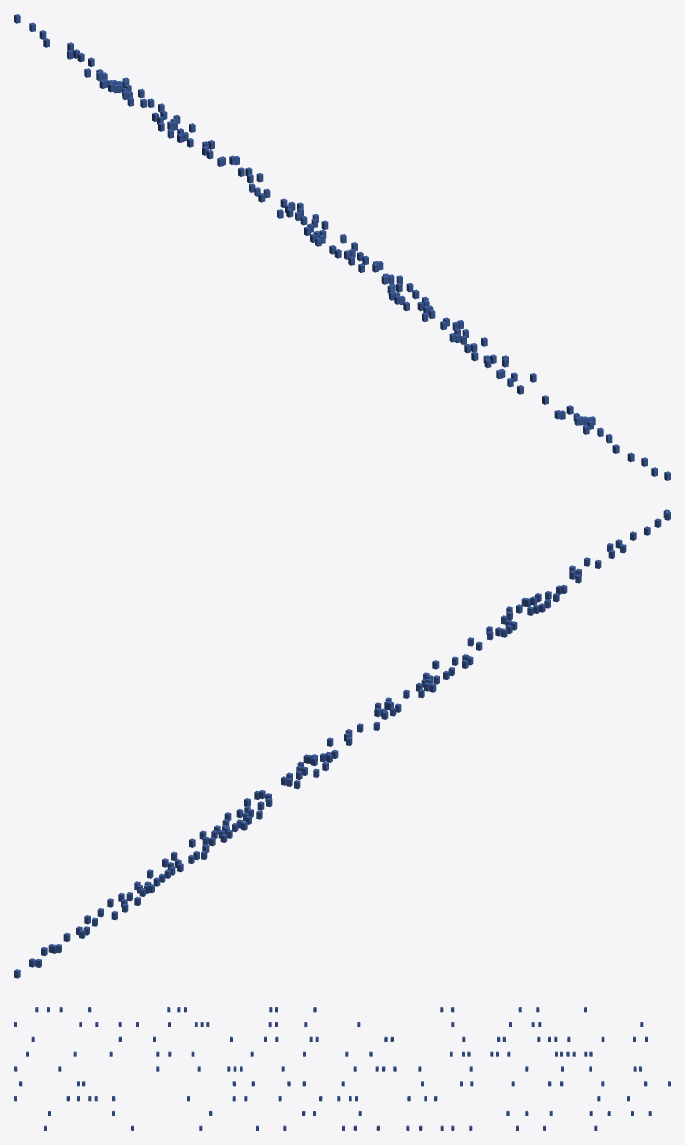
Rendered from CrowdE_CrowdBlue.fbx.
3 views of the same model, one above another, from view 1: azimuth 30°, elevation 25°; view 2: azimuth 150°, elevation 25°; view 3: azimuth 270°, elevation 25° (orthographic). The views are drawn at different scales.
Visible parts, largest first — view 1: FanE5.001; view 2: FanE5.001; view 3: FanE5.001.
Part boxes in pixels (x1,y1,x2,y2): FanE5.001: (14,14,670,480); FanE5.001: (14,509,670,978); FanE5.001: (14,1007,670,1130).
Size of the model in its own units: 4127 by 3370 by 25444.
